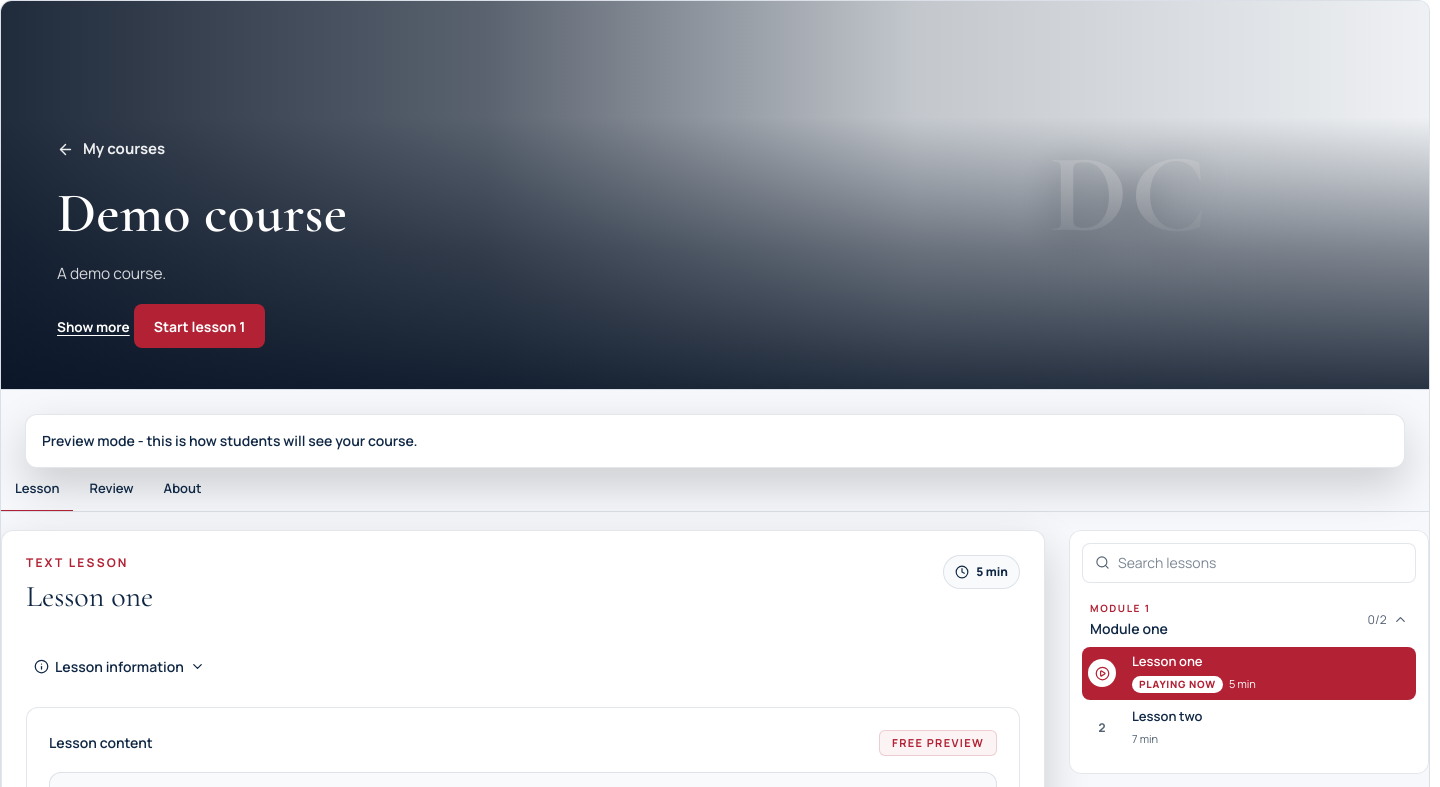
a aula atual vive no endereco › ao escolher uma aula, grava o endereco e rola ate o player
Click the button "Lesson two 7 min" at (1167, 716), box [1124,702,1408,755]
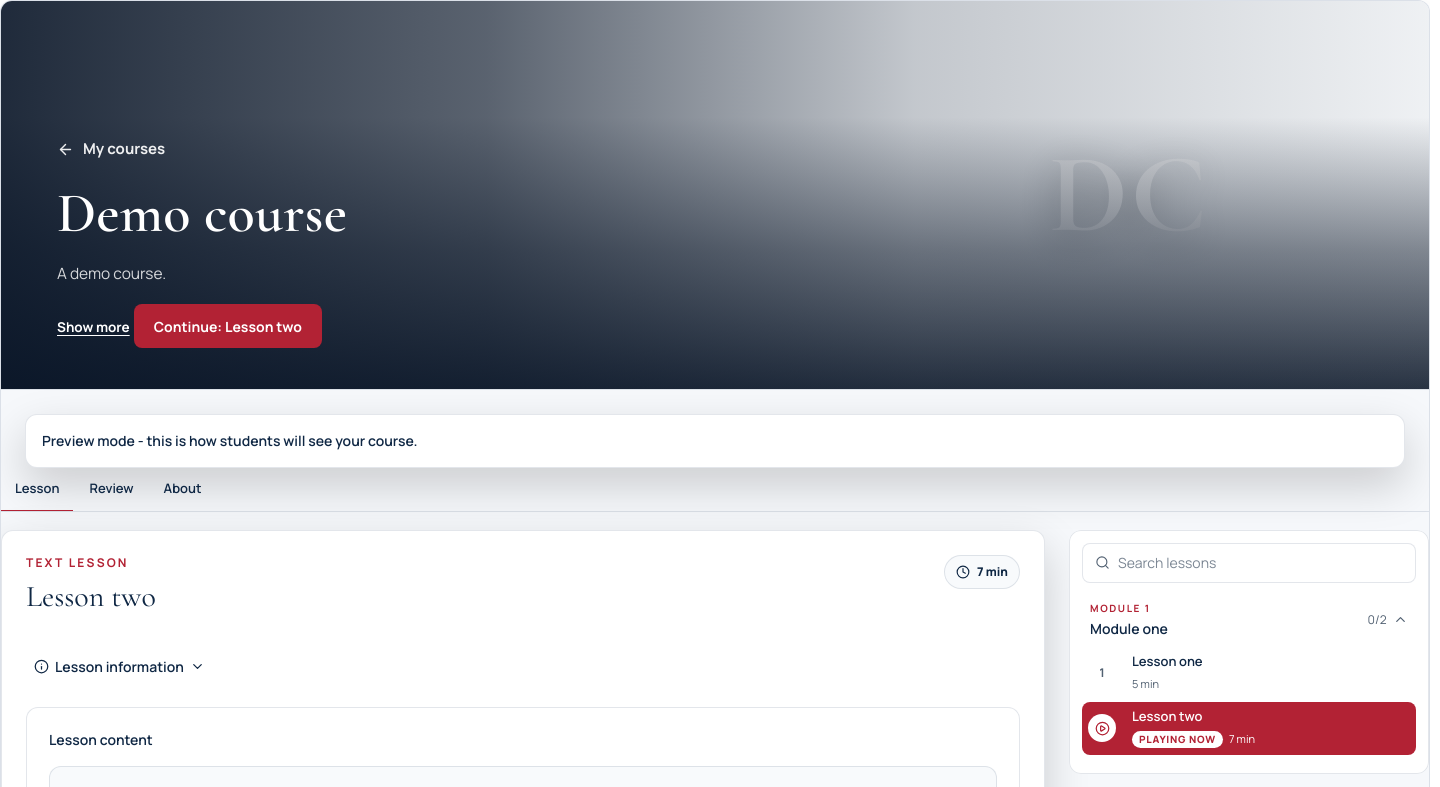
Expected: the heading "Lesson two" is shown, [26,579,156,615]
